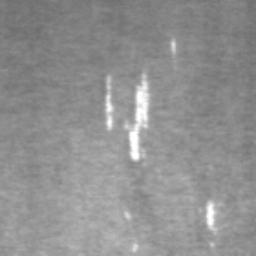White rust: (124, 71, 152, 161), (104, 73, 115, 132), (206, 198, 219, 232), (170, 34, 176, 58), (123, 208, 132, 220), (132, 242, 141, 252)
